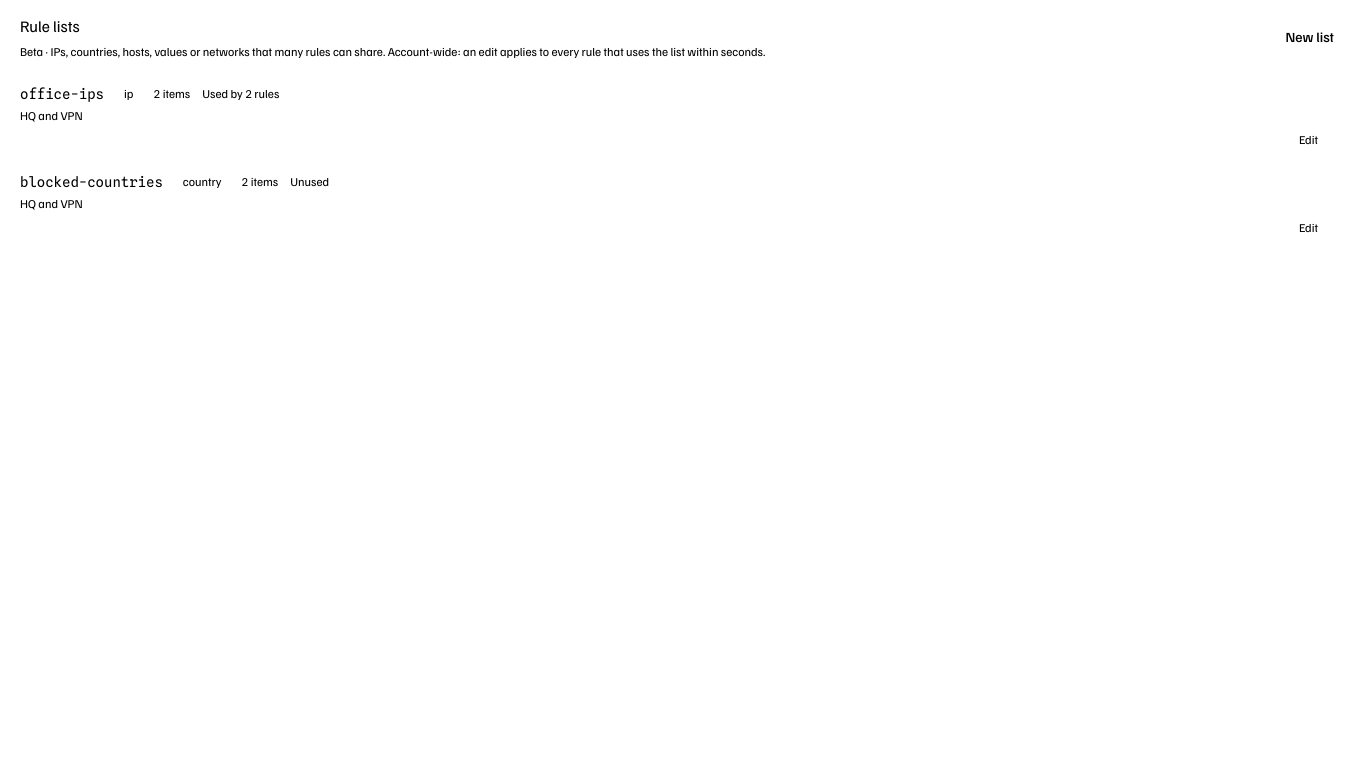
it: EdgeRuleLists › keeps a plan refusal in the dialog
The image size is (1366, 768).
Click the button "New list".
click(1300, 37)  # box [1253, 21, 1346, 53]
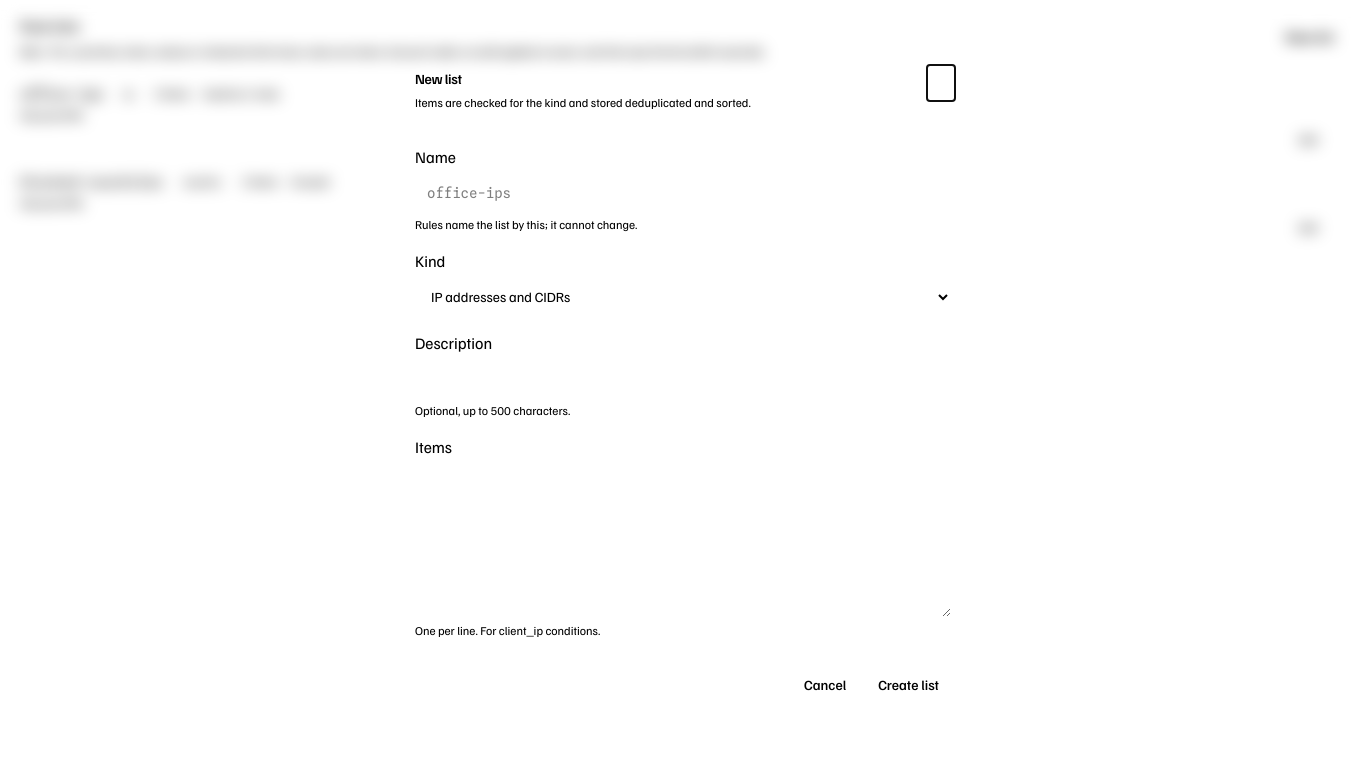
Type "more" into the field labelled "Name Rules name the list by this; it cannot change.".
click(683, 192); type("more")  # box [415, 174, 951, 210]
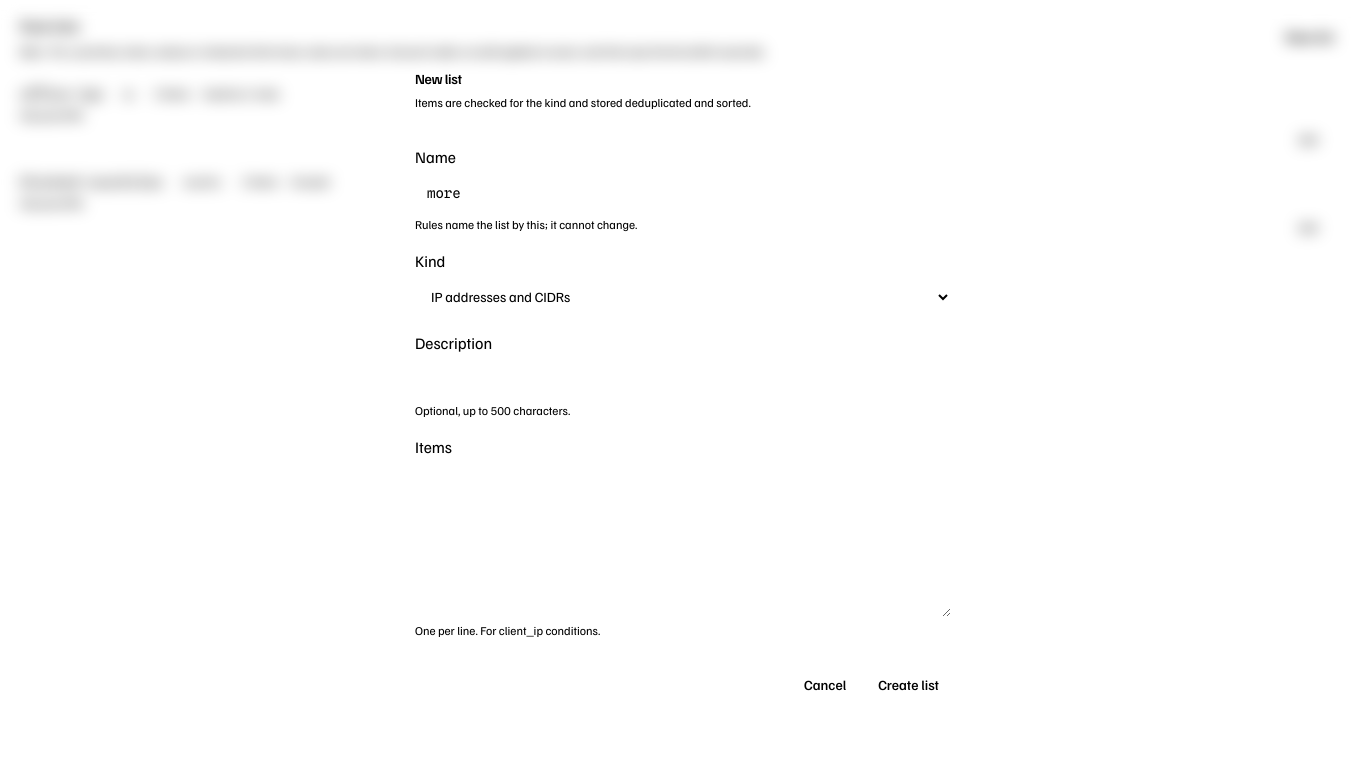
Click the button "Create list".
click(909, 685)  # box [866, 669, 951, 701]
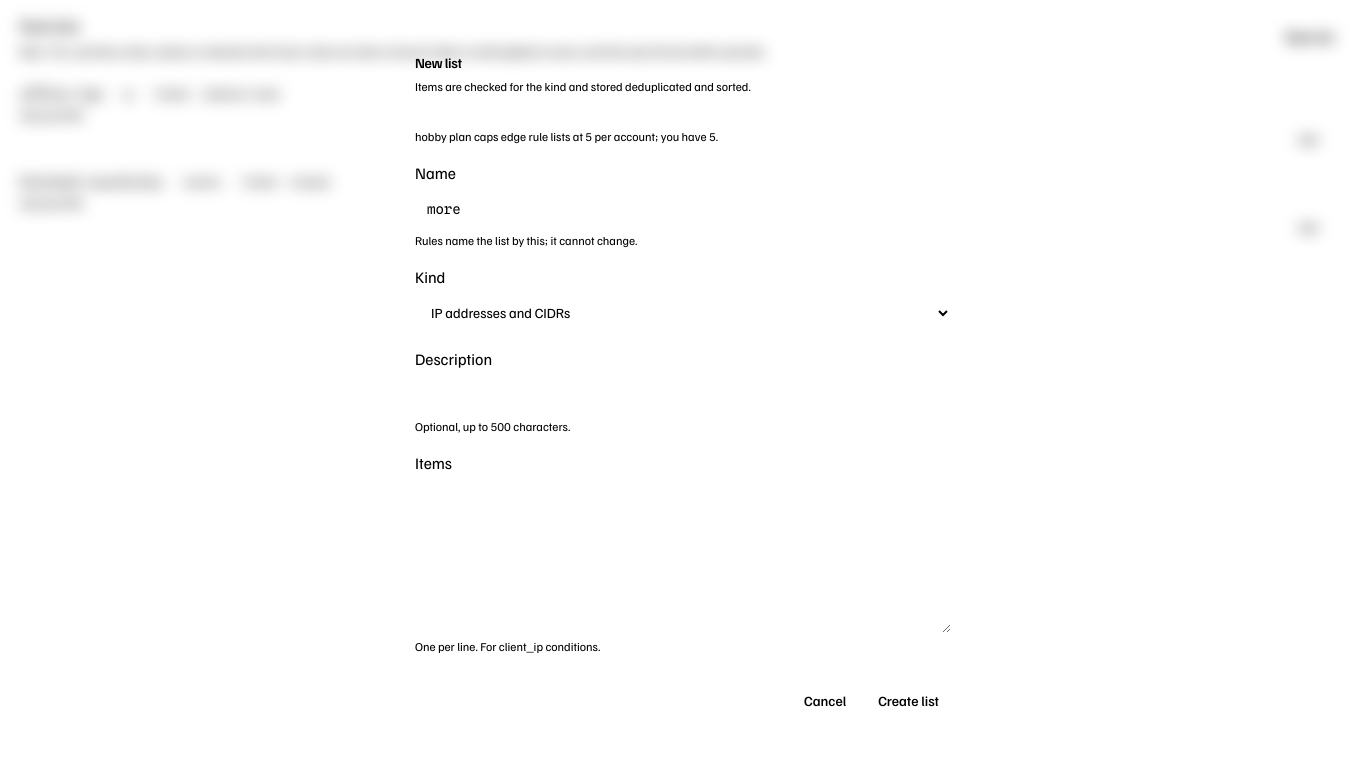
Result: the message shows "caps edge rule lists at 5" at [415, 128, 718, 144]
